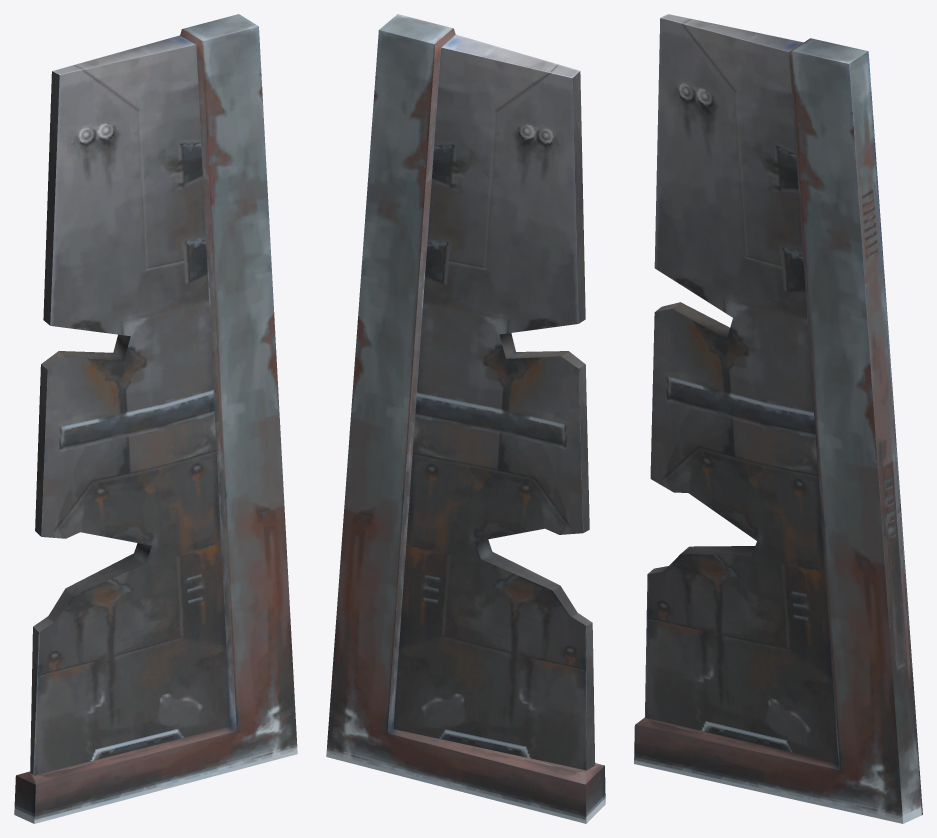
The model's file is hth_item_junk_05.glb.
3 renders of one model, left to right at view 1: azimuth 30°, elevation 25°; view 2: azimuth 150°, elevation 25°; view 3: azimuth 330°, elevation 25°, orthographic. The views are drawn at different scales.
Visible parts, largest first — view 1: hth_item_junk_05; view 2: hth_item_junk_05; view 3: hth_item_junk_05.
Part boxes in pixels (x1=…): hth_item_junk_05: x1=14, y1=14, x2=297, y2=823; hth_item_junk_05: x1=326, y1=14, x2=605, y2=823; hth_item_junk_05: x1=634, y1=14, x2=922, y2=823.
Size of the model in its own units: 0.1447 by 0.394 by 0.0258.
1 material, 1 textured.
